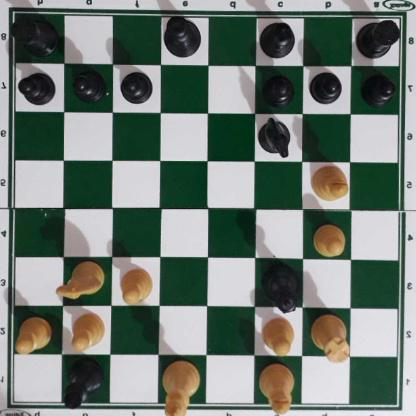black-bishop: (62, 357, 105, 409), (258, 21, 299, 58)
black-king: (163, 14, 204, 57)
black-knight: (258, 116, 294, 158)
black-pawn: (20, 69, 56, 105), (121, 68, 154, 102), (362, 72, 396, 104), (73, 67, 105, 101), (312, 70, 343, 104), (264, 72, 295, 106)
black-queen: (261, 261, 301, 316)
black-rook: (10, 15, 61, 57), (356, 16, 403, 58)
white-bishop: (260, 361, 295, 414), (311, 165, 350, 201)
white-knight: (55, 259, 106, 299)
white-pawn: (69, 310, 107, 351), (262, 316, 297, 356), (16, 315, 53, 352), (121, 266, 154, 303), (313, 224, 348, 257)
white-queen: (162, 360, 201, 416)
white-rook: (310, 312, 350, 361)
